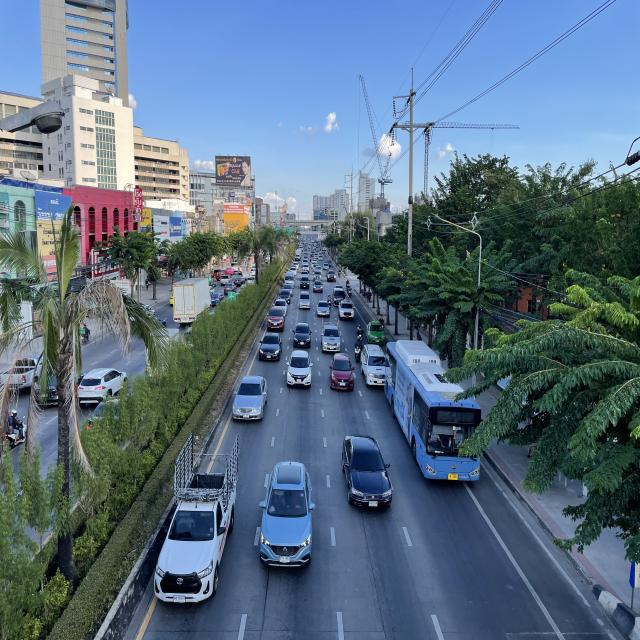bike: (354, 336, 362, 363), (356, 324, 364, 342), (378, 314, 385, 328), (327, 294, 332, 309), (348, 285, 352, 297), (346, 279, 350, 289), (338, 268, 341, 278)
bus: (386, 340, 482, 484)
car: (256, 461, 316, 571), (340, 434, 394, 514), (230, 374, 268, 422), (286, 349, 314, 390), (292, 322, 313, 348), (266, 306, 286, 333), (366, 320, 386, 344), (273, 298, 288, 316)
truck: (151, 430, 240, 605), (360, 344, 387, 388), (321, 316, 342, 354)
